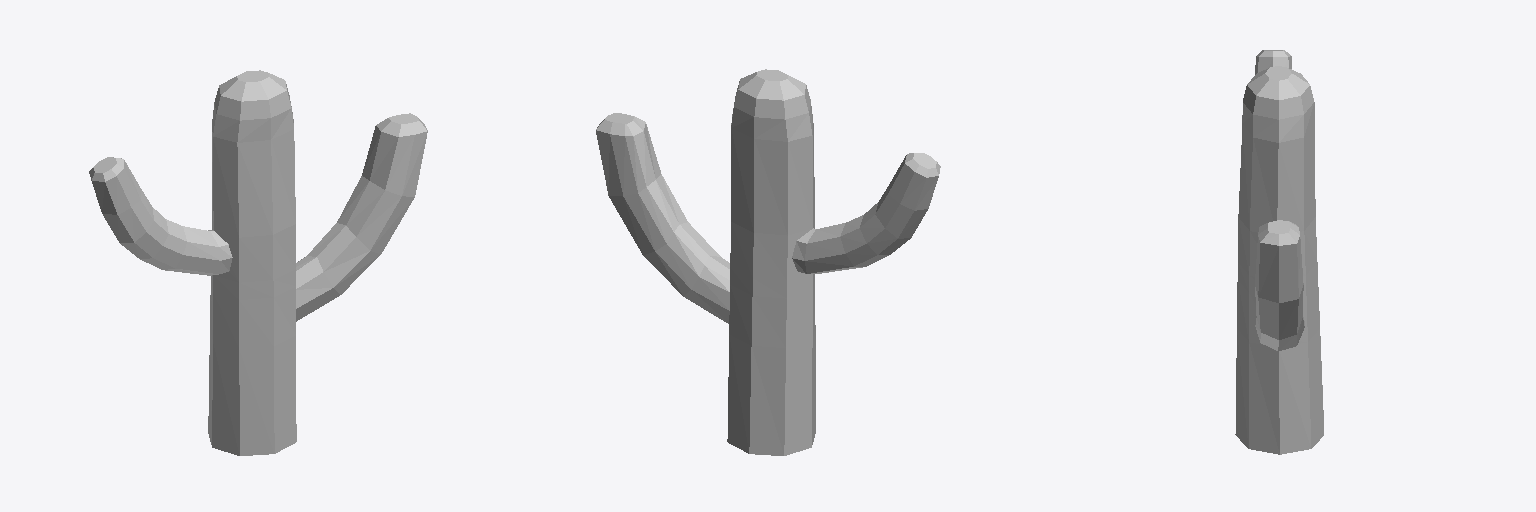
Rendered from Cactus1.obj.
3 renders of one model, left to right at view 1: azimuth 30°, elevation 25°; view 2: azimuth 150°, elevation 25°; view 3: azimuth 270°, elevation 25°, orthographic.
Parts seen in each view (by area): view 1: cactus_1; view 2: cactus_1; view 3: cactus_1.
Boxes of the visible parts, box(x1,y1,x2,y2) form: cactus_1: box(89, 70, 427, 455); cactus_1: box(596, 69, 940, 455); cactus_1: box(1235, 50, 1323, 454).
Bounding box in the file's own units: 190 × 196 × 43.59.